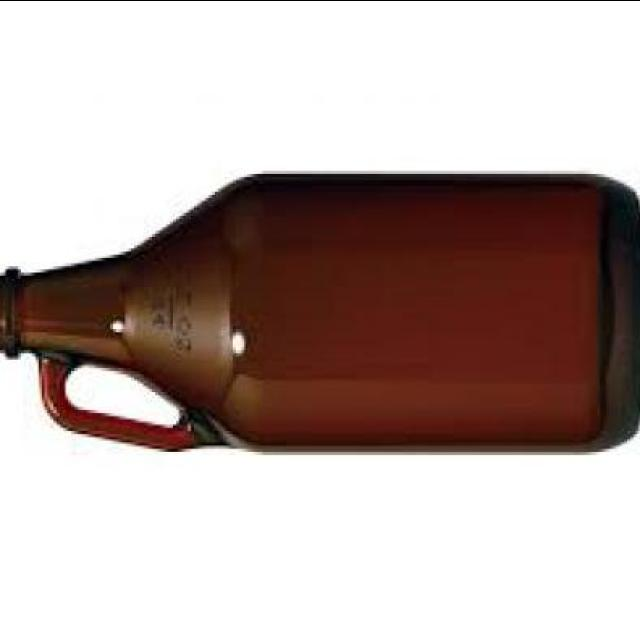kaca: (0, 169, 638, 454)
